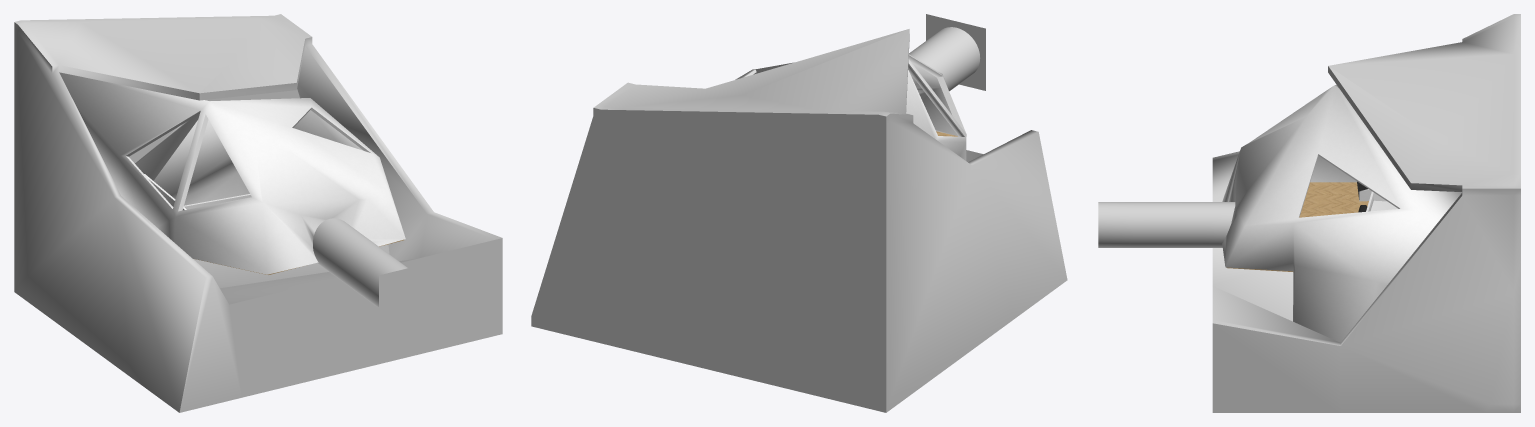
Rendered from Room_2_070716_015.fbx.
3 views of the same model, side by side, from view 1: azimuth 30°, elevation 25°; view 2: azimuth 150°, elevation 25°; view 3: azimuth 270°, elevation 25° (orthographic). The views are drawn at different scales.
Parts seen in each view (by area): view 1: box, Walls, concrete_tunnel, emissive; view 2: box, Walls, concrete_tunnel, emissive; view 3: box, Walls, concrete_tunnel, Floor.
Part boxes in pixels (x1,y1,x2,y2): box: [14, 14, 502, 412]; Walls: [59, 72, 405, 274]; concrete_tunnel: [313, 218, 407, 307]; emissive: [379, 262, 433, 332]; box: [531, 29, 1067, 412]; Walls: [735, 54, 966, 160]; concrete_tunnel: [909, 27, 980, 91]; emissive: [926, 14, 985, 90]; box: [1212, 14, 1520, 412]; Walls: [1222, 84, 1461, 342]; concrete_tunnel: [1098, 202, 1235, 247]; Floor: [1226, 182, 1368, 271].
Size of the model in its own units: 3318 by 2649 by 4051.
3 materials, 2 textured.
